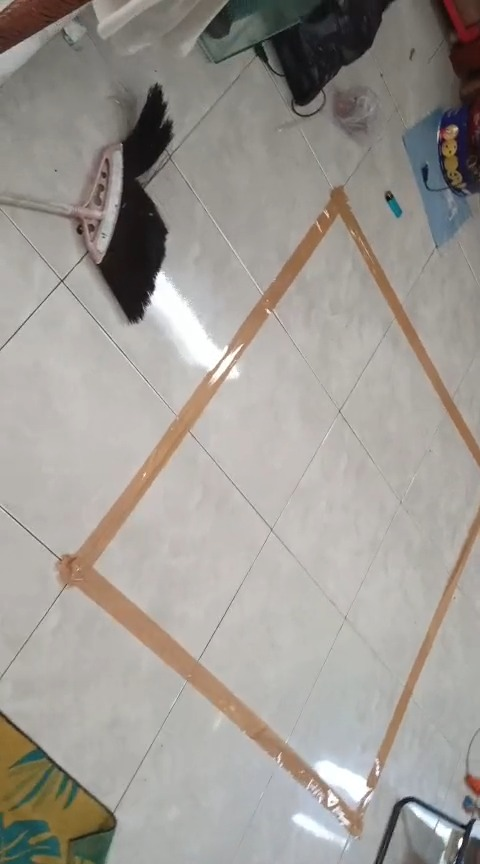floor marking: (59, 187, 479, 835)
